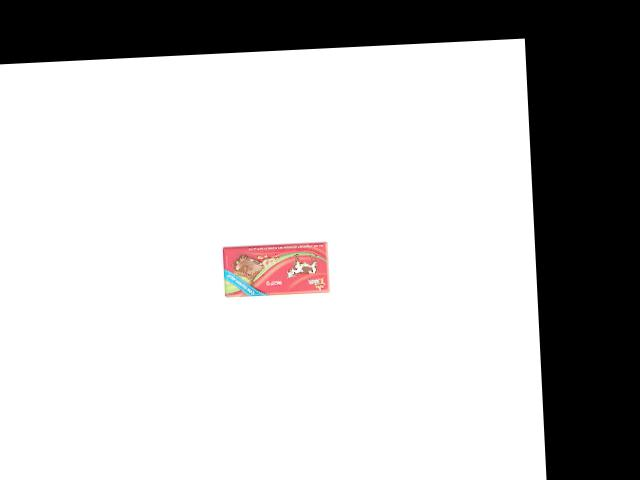chocolate: (223, 242, 334, 298)
